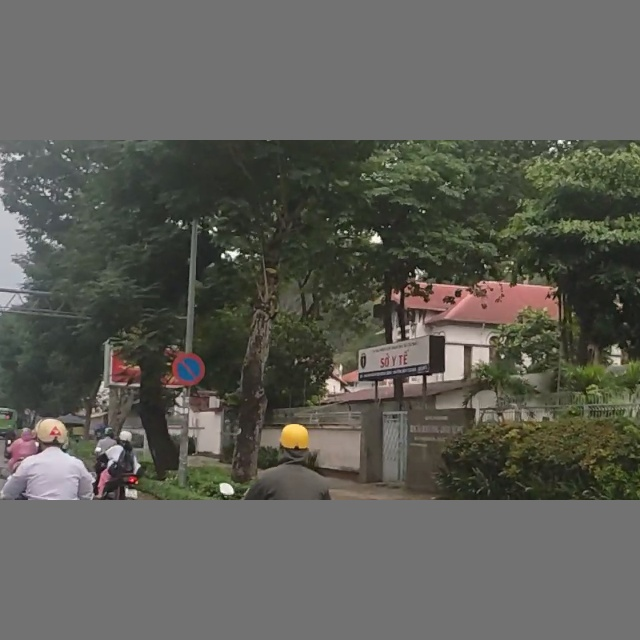P.131a: (171, 352, 204, 385)
